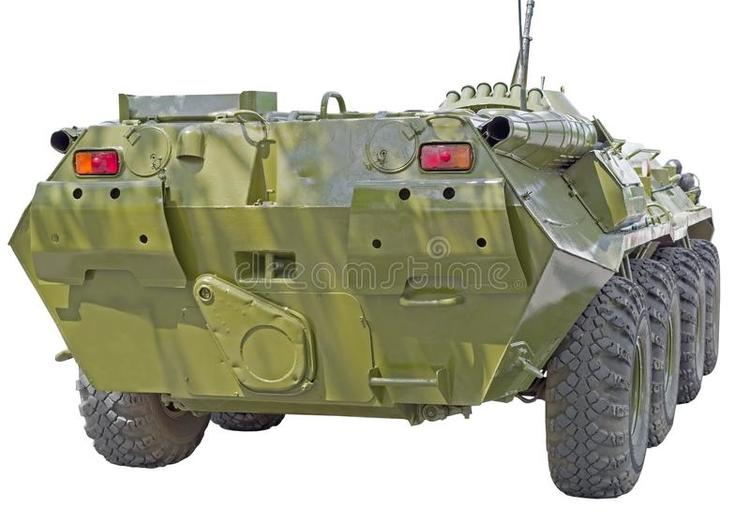btr: (2, 80, 733, 497)
